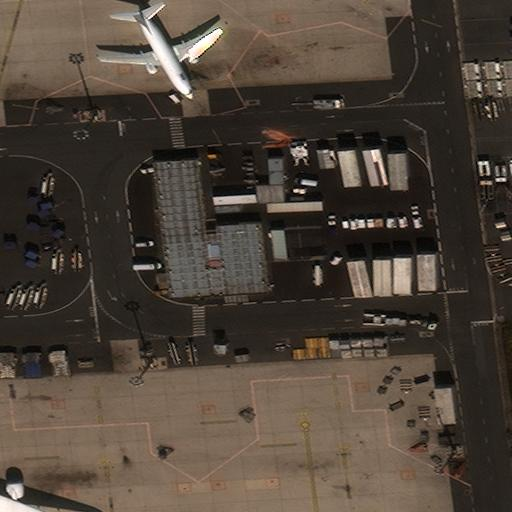Large Civil Transport: (0, 458, 70, 511)
Medium Civil Transport: (100, 11, 223, 99)
